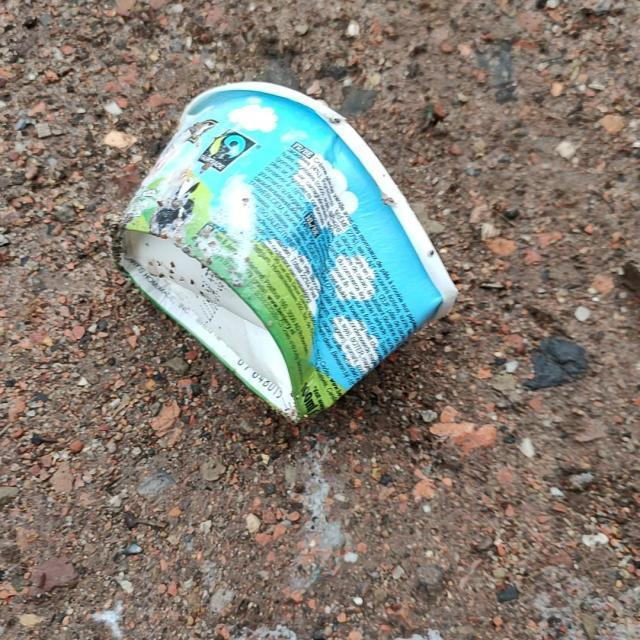Paper: (106, 74, 460, 428)
